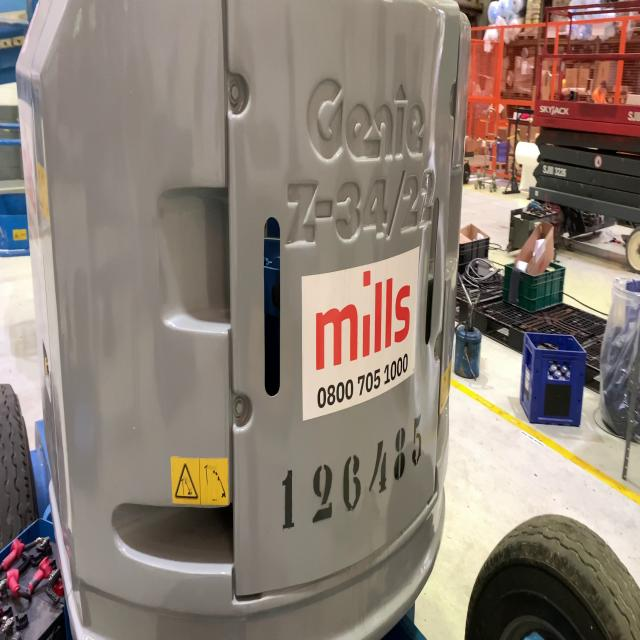Adesivos: (299, 243, 421, 432)
